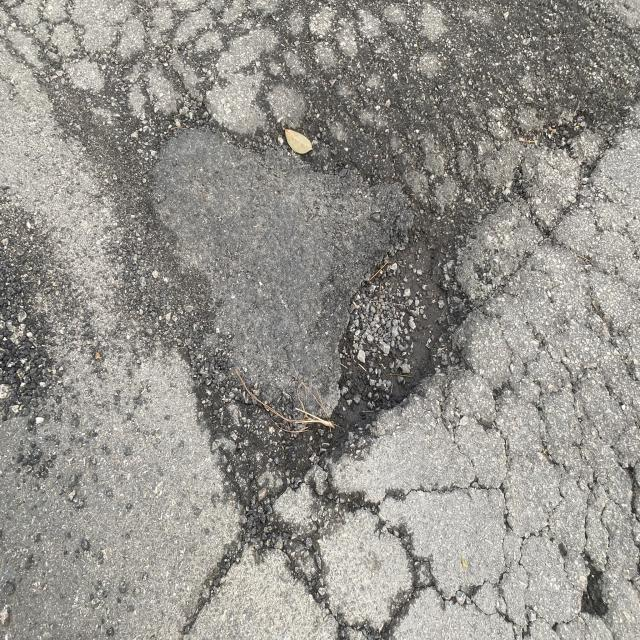Pothole: (109, 98, 526, 546)
